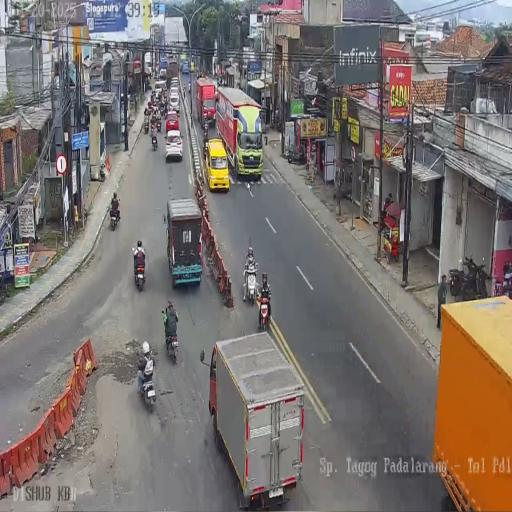car: (204, 138, 230, 192), (165, 130, 184, 163), (166, 110, 179, 132), (154, 80, 167, 100), (169, 92, 179, 114), (170, 77, 179, 92), (182, 59, 189, 75), (160, 68, 166, 80), (190, 60, 195, 72)
motorcycle: (448, 252, 489, 302), (137, 357, 157, 411), (163, 317, 179, 363), (257, 291, 271, 331), (133, 250, 146, 292), (286, 145, 307, 165), (110, 202, 120, 231), (151, 129, 158, 151), (203, 121, 209, 146), (156, 115, 162, 132), (143, 117, 149, 134), (160, 103, 166, 117), (148, 99, 153, 113)
truck: (207, 330, 305, 512), (164, 196, 203, 286), (194, 76, 216, 128), (144, 52, 151, 74)
